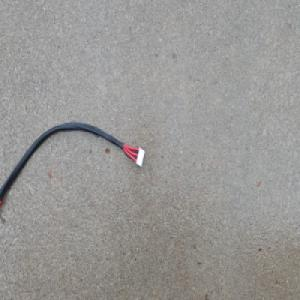Wire: (0, 121, 145, 211)
